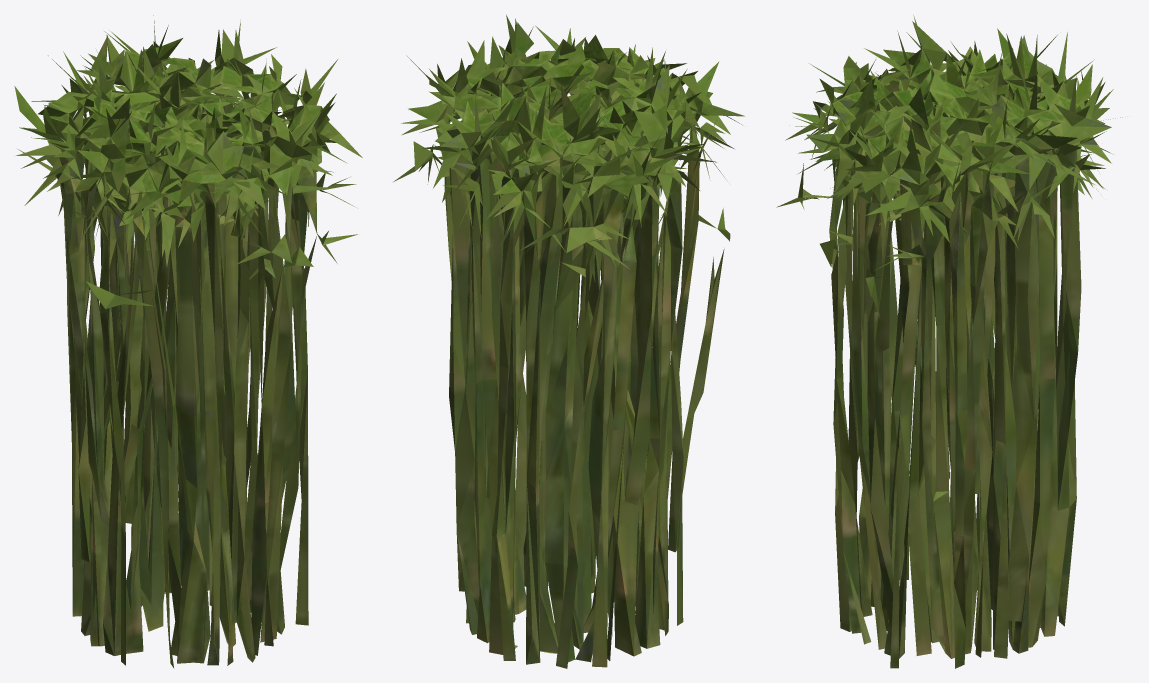
Rendered from scene_bamboo.glb.
The picture shows the model from 3 angles, left to right: view 1: azimuth 30°, elevation 25°; view 2: azimuth 150°, elevation 25°; view 3: azimuth 270°, elevation 25°; orthographic projection.
Bounding box in the file's own units: 1.12 × 1.92 × 1.09.
Materials: 1 (1 with a texture image).
